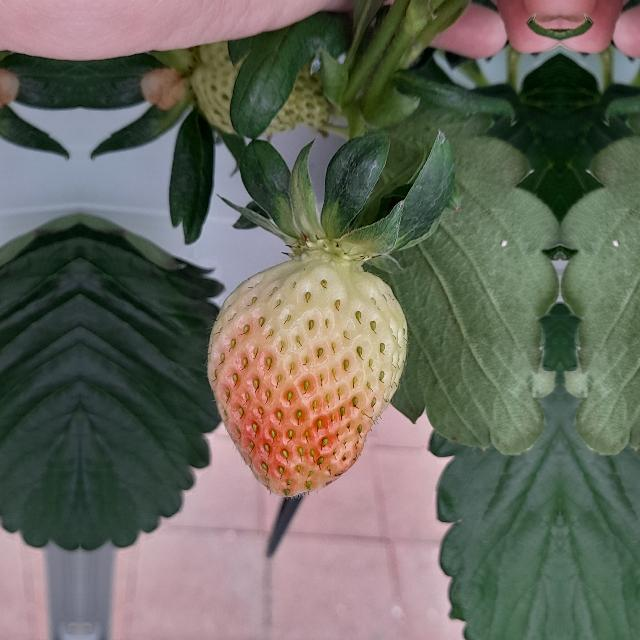Health_50: (207, 256, 407, 496)
